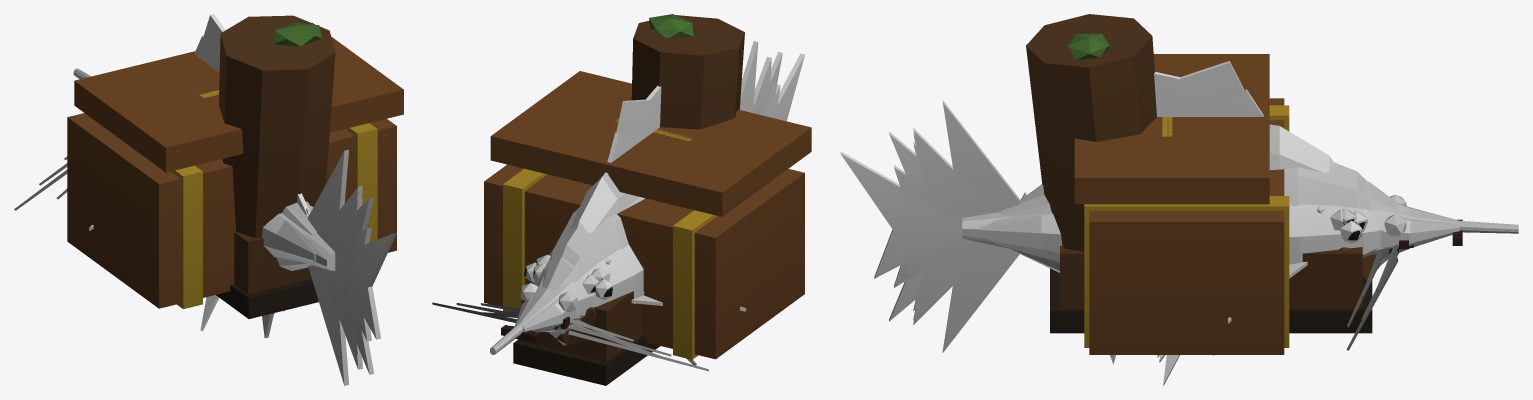
File: fish.fbx
3 views of the same model, side by side, from view 1: azimuth 30°, elevation 25°; view 2: azimuth 150°, elevation 25°; view 3: azimuth 270°, elevation 25° (orthographic). The views are drawn at different scales.
Parts seen in each view (by area): view 1: fish_treasure, fish_boot, fish_panfish, fish_catfish, fish_ancient, fish_bass, fish_sea, fish_carp, fish_pike, fish_perch; view 2: fish_treasure, fish_boot, fish_catfish, fish_panfish, fish_bass, fish_ancient, fish_sea, fish_pike, fish_carp; view 3: fish_treasure, fish_boot, fish_panfish, fish_bass, fish_catfish, fish_ancient, fish_pike, fish_sea, fish_carp.
Boxes of the visible parts, box(x1,y1,x2,y2) form: fish_treasure: box(67, 22, 403, 309); fish_boot: box(199, 15, 335, 318); fish_panfish: box(197, 14, 348, 385); fish_catfish: box(14, 156, 371, 341); fish_ancient: box(73, 68, 396, 319); fish_bass: box(190, 35, 362, 369); fish_sea: box(306, 197, 374, 374); fish_carp: box(57, 56, 362, 365); fish_pike: box(297, 197, 380, 339); fish_perch: box(201, 55, 362, 356); fish_treasure: box(484, 71, 811, 359); fish_boot: box(513, 14, 744, 385); fish_catfish: box(432, 84, 780, 371); fish_panfish: box(570, 41, 758, 365); fish_bass: box(536, 56, 771, 345); fish_ancient: box(490, 53, 804, 354); fish_sea: box(533, 52, 782, 343); fish_pike: box(506, 283, 577, 341); fish_carp: box(483, 62, 771, 355); fish_treasure: box(1074, 54, 1289, 354); fish_boot: box(1026, 14, 1379, 333); fish_panfish: box(942, 61, 1333, 385); fish_bass: box(913, 89, 1398, 362); fish_catfish: box(894, 165, 1408, 350); fish_ancient: box(840, 151, 1518, 278); fish_pike: box(874, 188, 1462, 278); fish_sea: box(889, 131, 1413, 321); fish_carp: box(913, 102, 1392, 357).
Bounding box in the file's own units: 0.7159 × 0.7631 × 1.39.
